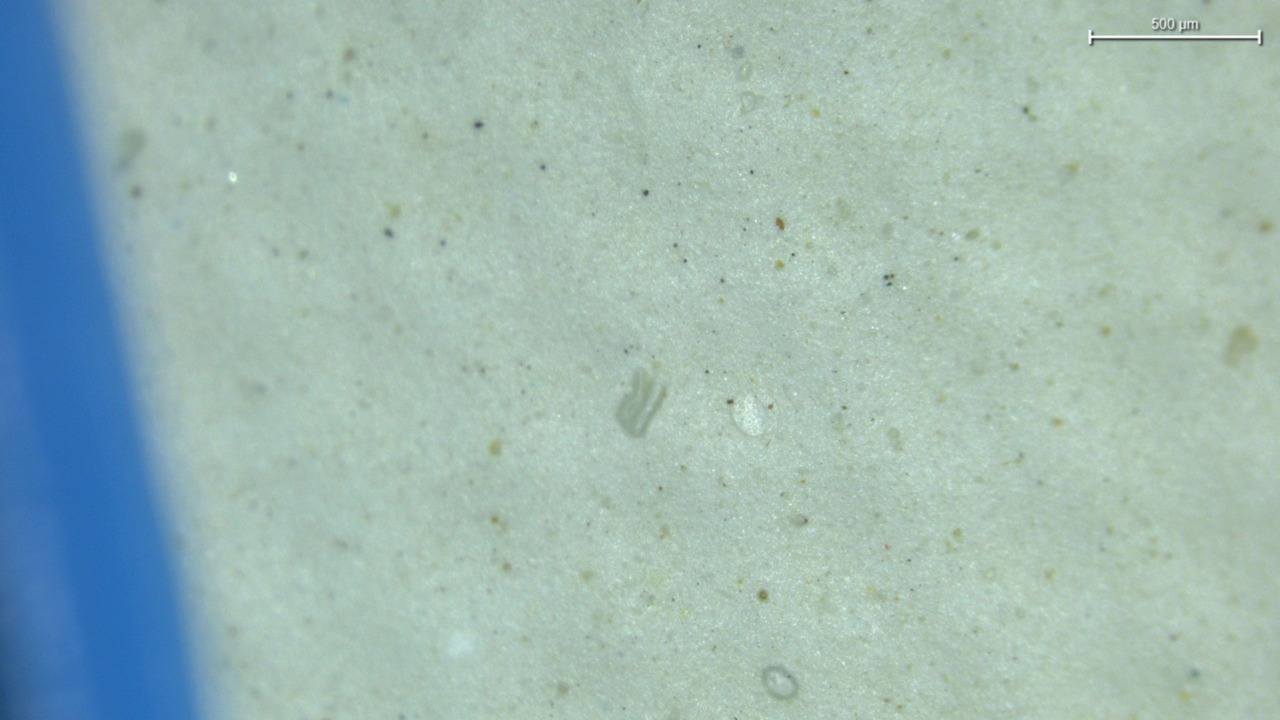microplastic_fragment: (616, 368, 666, 437)
